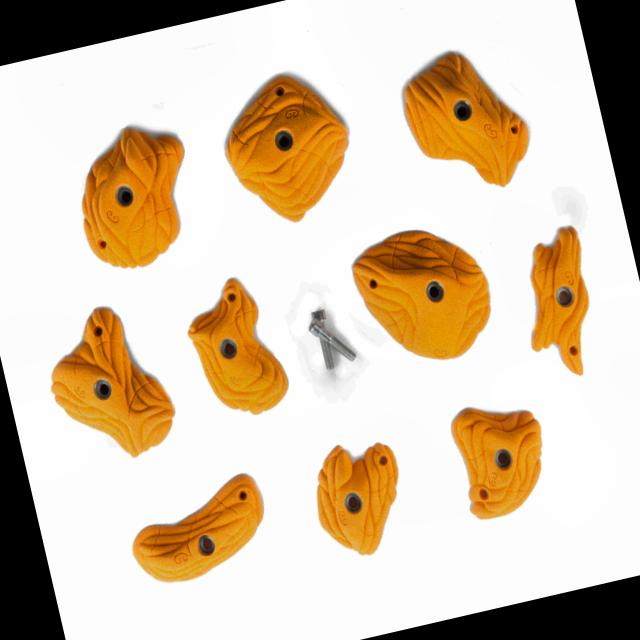Hold: (388, 30, 542, 214), (341, 213, 505, 380), (34, 294, 180, 468), (211, 63, 362, 229), (61, 114, 206, 275), (170, 262, 294, 423), (124, 463, 280, 590), (296, 415, 418, 564), (498, 215, 610, 375), (438, 385, 553, 522)
